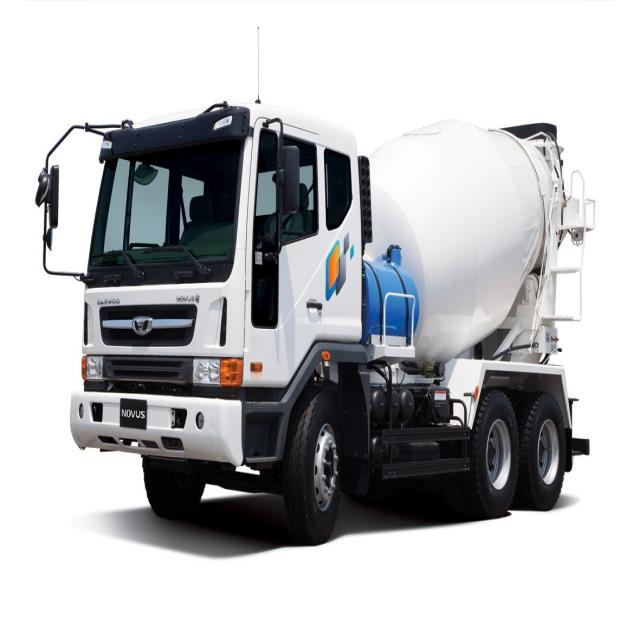Mixer Truck: (70, 107, 596, 544)
